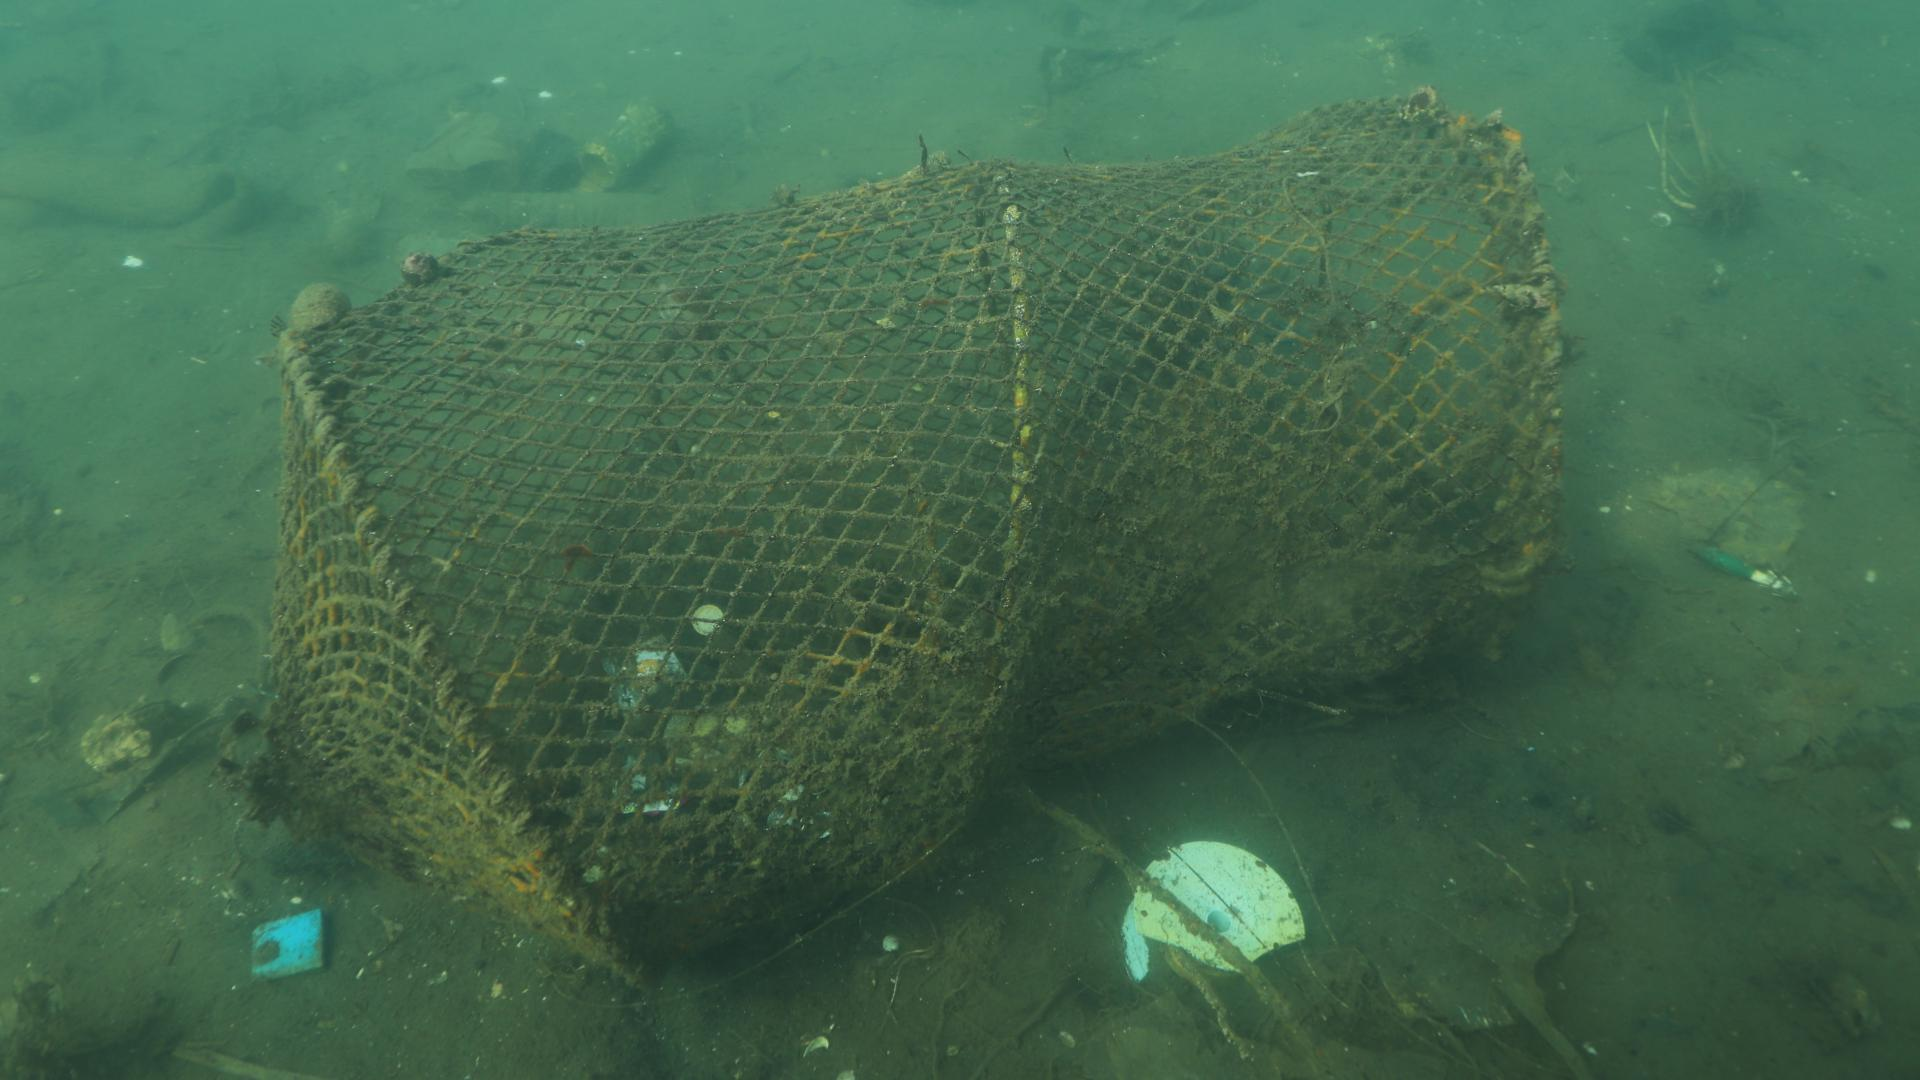spring fish trap: (214, 82, 1563, 997)
